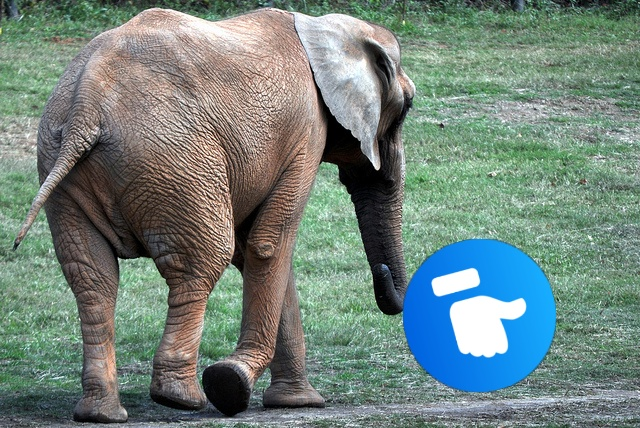like: (403, 239, 556, 392)
